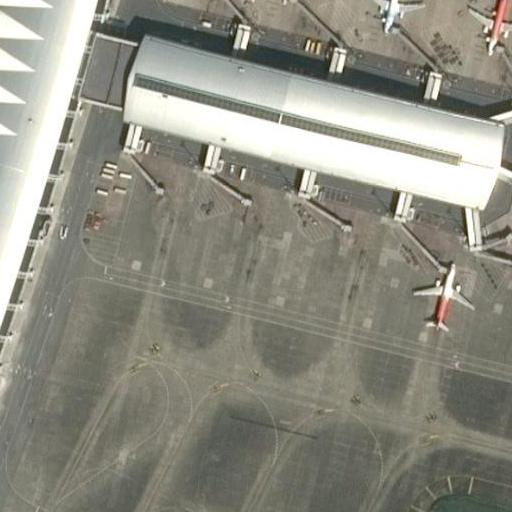Aircraft: (411, 259, 474, 333), (467, 0, 512, 58), (358, 0, 425, 35), (256, 0, 326, 2)
